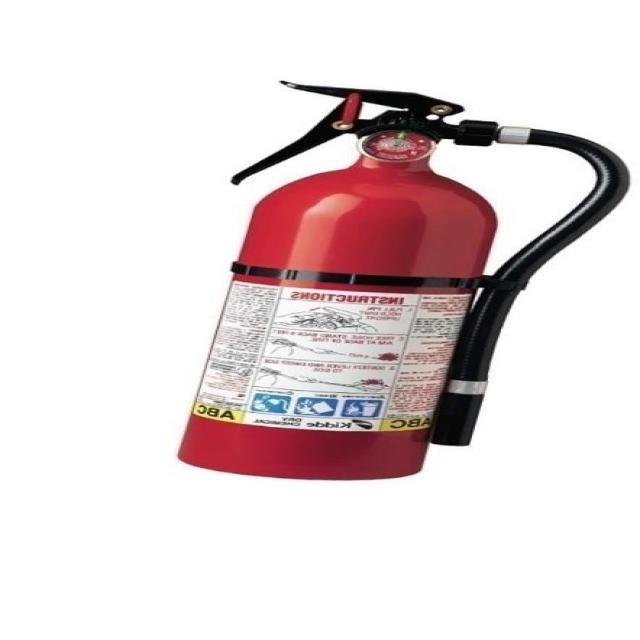fire_extinguisher: (164, 71, 638, 488)
